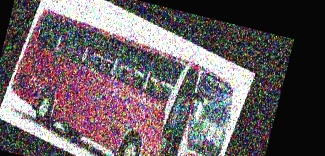bus: (0, 0, 258, 156)
